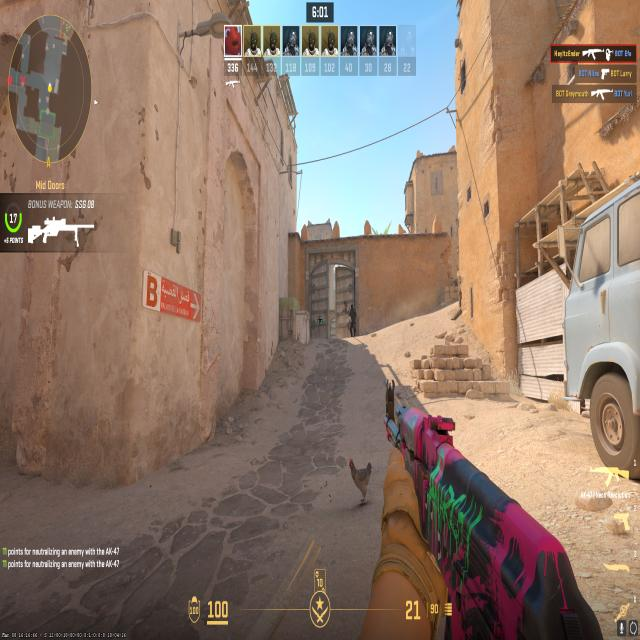ct: (346, 301, 360, 340)
